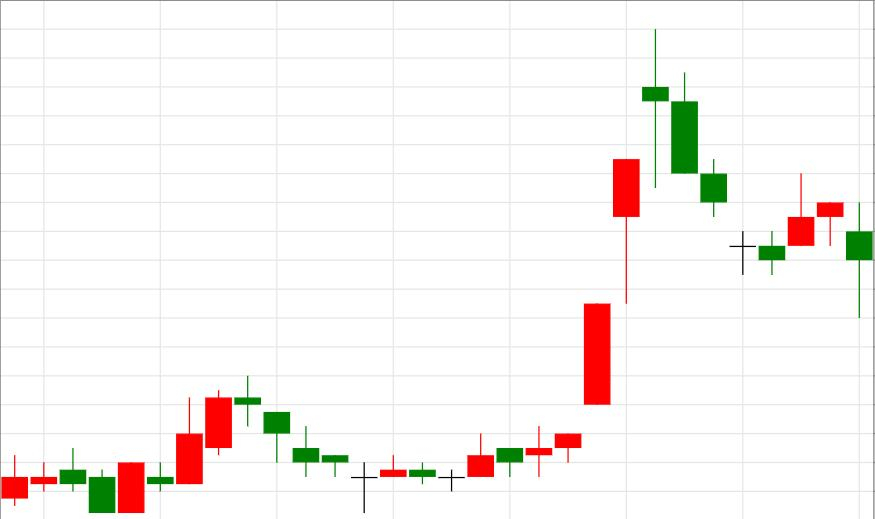evening_star_fall: (468, 29, 698, 477)
